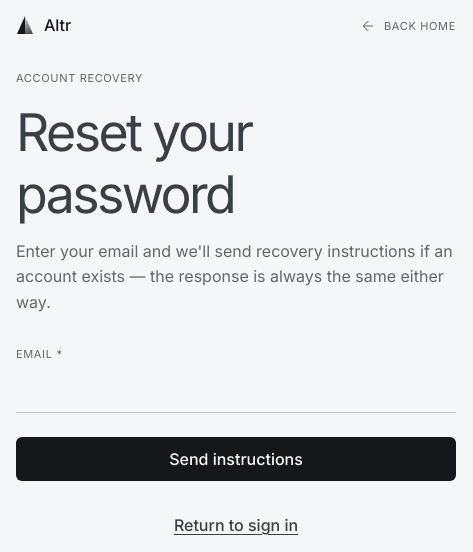
Scenario: ForgotPasswordForm › shows the same neutral 'check your email' confirmation whether or not the account exists
Type "real@example.com" into the field labelled "Email *".
click(236, 391); type("real@example.com")  # box x1=16 y1=369 x2=456 y2=413
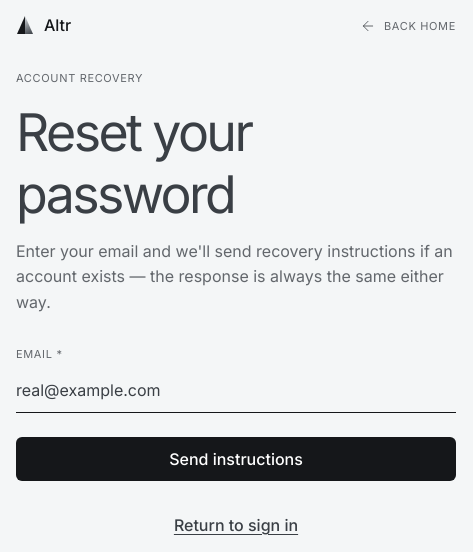
Click the button "Send instructions".
click(236, 459)  # box x1=16 y1=437 x2=456 y2=481
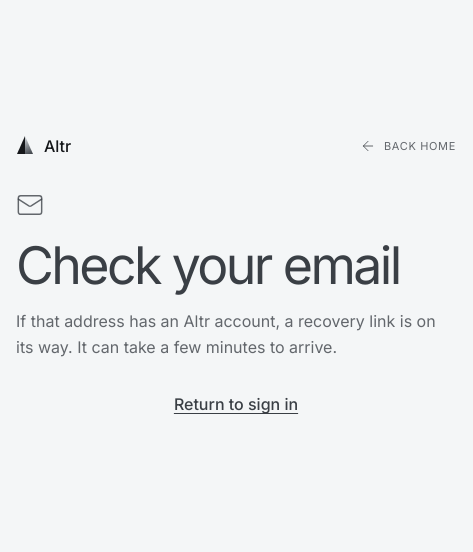
Expected: the heading "Check your email" is shown, x1=16 y1=235 x2=456 y2=297
Expected: the message shows "recovery link is on its way", x1=16 y1=311 x2=436 y2=357
